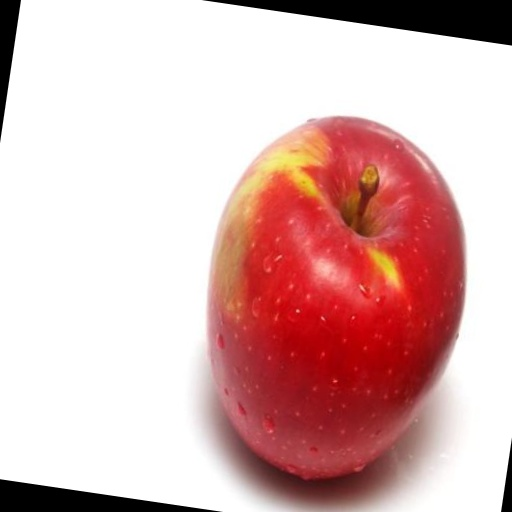fruit: (207, 117, 465, 478)
